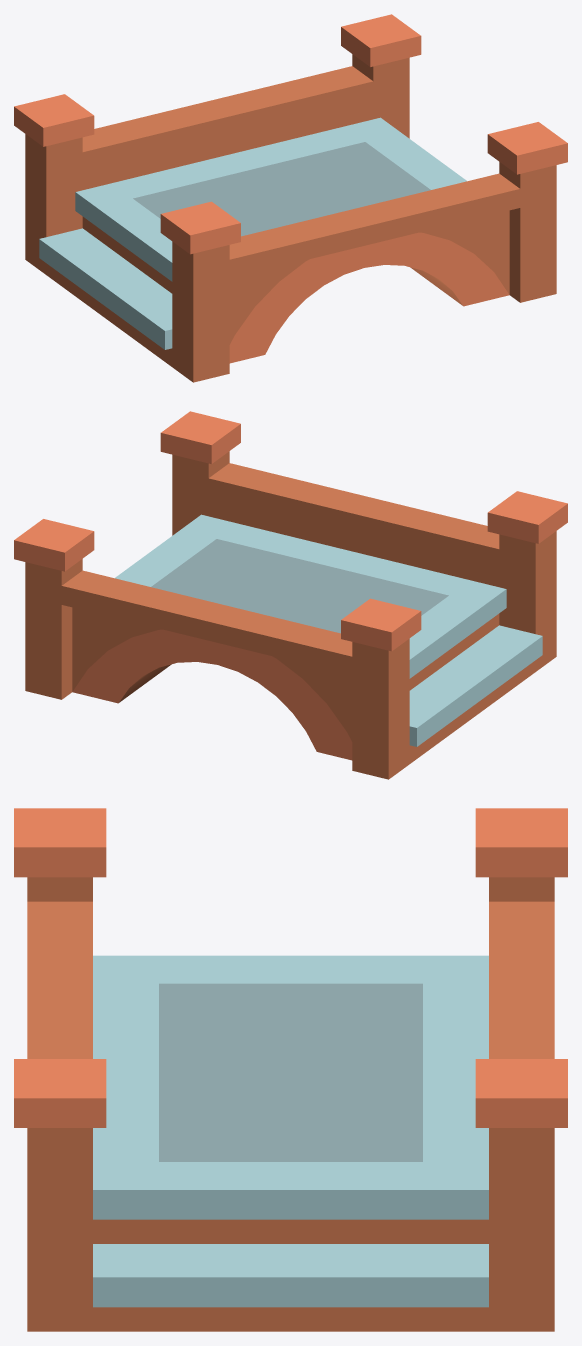
The picture shows the model from 3 angles, top to bottom: view 1: azimuth 30°, elevation 25°; view 2: azimuth 150°, elevation 25°; view 3: azimuth 270°, elevation 25°; orthographic projection. The views are drawn at different scales.
Visible parts, largest first — view 1: bridge_woodRoundNarrow; view 2: bridge_woodRoundNarrow; view 3: bridge_woodRoundNarrow.
Part boxes in pixels (x1,y1,x2,y2): bridge_woodRoundNarrow: (14, 14, 567, 382); bridge_woodRoundNarrow: (14, 411, 567, 779); bridge_woodRoundNarrow: (14, 808, 567, 1331).
Bounding box in the file's own units: 1.04 × 0.4 × 0.84.
